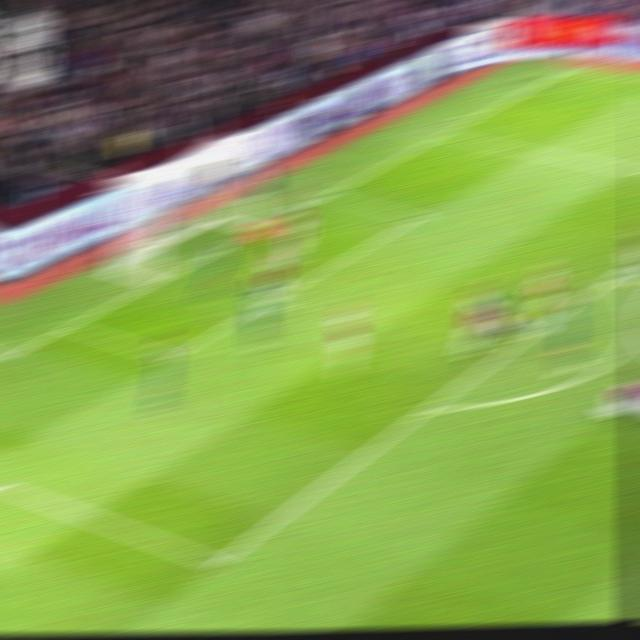bigarea_bottom_inner: (195, 540, 238, 584)
bigarea_top_outter: (432, 129, 455, 139)
bottom_arc_area_intersection: (414, 397, 442, 419)
corner: (557, 63, 583, 73)
smallarea_bottom_outter: (56, 314, 86, 335)
smallarea_top_inner: (402, 208, 428, 224)
smallarea_top_outter: (315, 188, 341, 202)
top_arc_area_intersection: (602, 268, 625, 284)
